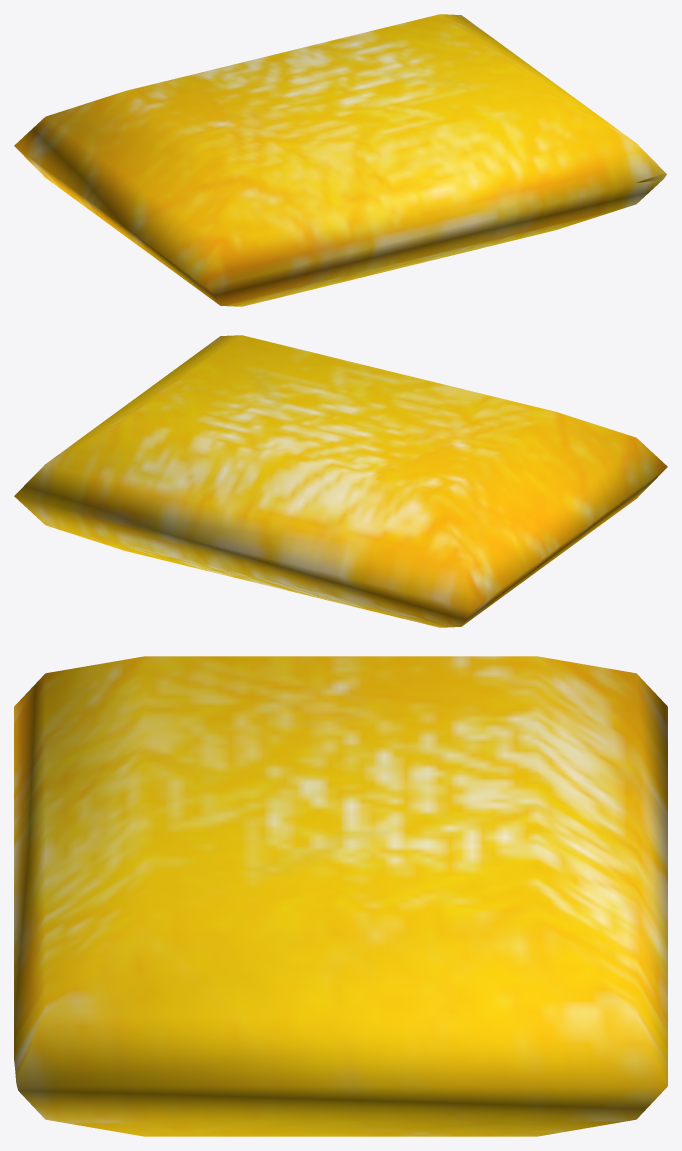
Rendered from suspicious_package.FBX.
The picture shows the model from 3 angles, top to bottom: view 1: azimuth 30°, elevation 25°; view 2: azimuth 150°, elevation 25°; view 3: azimuth 270°, elevation 25°; orthographic projection. The views are drawn at different scales.
Parts seen in each view (by area): view 1: suspicious_package; view 2: suspicious_package; view 3: suspicious_package.
Part boxes in pixels (x1,y1,x2,y2): suspicious_package: [14, 14, 666, 306]; suspicious_package: [14, 335, 667, 627]; suspicious_package: [14, 656, 667, 1136].
Size of the model in its own units: 23.9 by 6.49 by 17.4.
